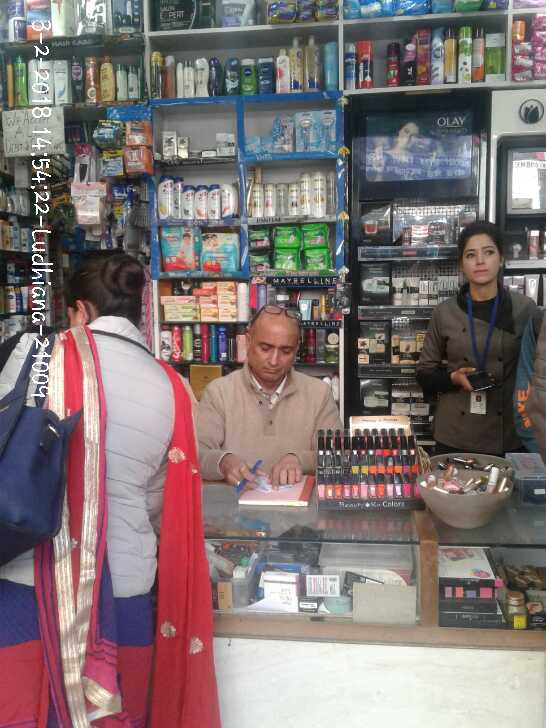ambipureVesus: (432, 26, 446, 86)
gillete: (95, 118, 123, 145), (128, 118, 154, 143), (357, 42, 371, 87), (126, 149, 154, 171), (346, 42, 357, 90), (101, 149, 121, 175)
venus: (274, 113, 294, 154), (317, 110, 335, 151), (295, 113, 314, 150), (245, 136, 262, 156), (262, 136, 274, 154)
